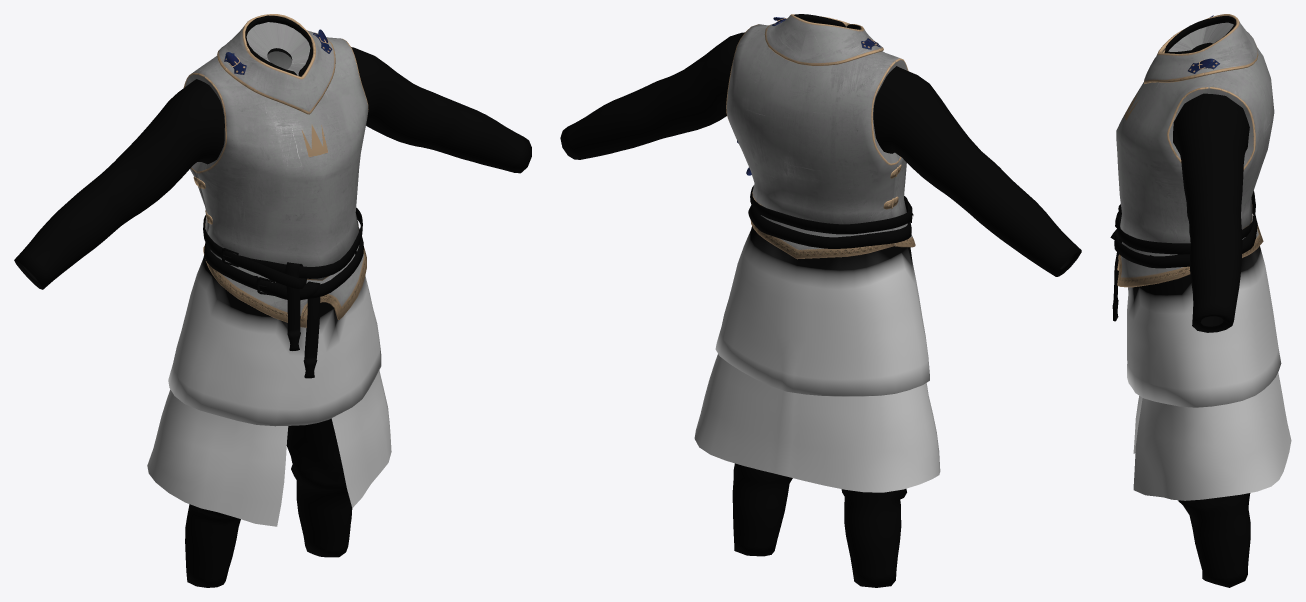
File: swan_knight_armor_2a_t2.fbx
3 views of the same model, side by side, from view 1: azimuth 30°, elevation 25°; view 2: azimuth 150°, elevation 25°; view 3: azimuth 270°, elevation 25° (orthographic). The views are drawn at different scales.
Parts seen in each view (by area): view 1: swan_knight_armor_2a_t2.0, swan_knight_armor_2a_t2.1; view 2: swan_knight_armor_2a_t2.0, swan_knight_armor_2a_t2.1; view 3: swan_knight_armor_2a_t2.0, swan_knight_armor_2a_t2.1.
Boxes of the visible parts, <box> form: swan_knight_armor_2a_t2.0: <box>14,15,531,587</box>; swan_knight_armor_2a_t2.1: <box>183,14,368,327</box>; swan_knight_armor_2a_t2.0: <box>560,14,1081,587</box>; swan_knight_armor_2a_t2.1: <box>726,14,915,259</box>; swan_knight_armor_2a_t2.0: <box>1110,16,1291,587</box>; swan_knight_armor_2a_t2.1: <box>1116,14,1274,287</box>.
Size of the model in its own units: 1.34 by 0.424 by 1.37.
